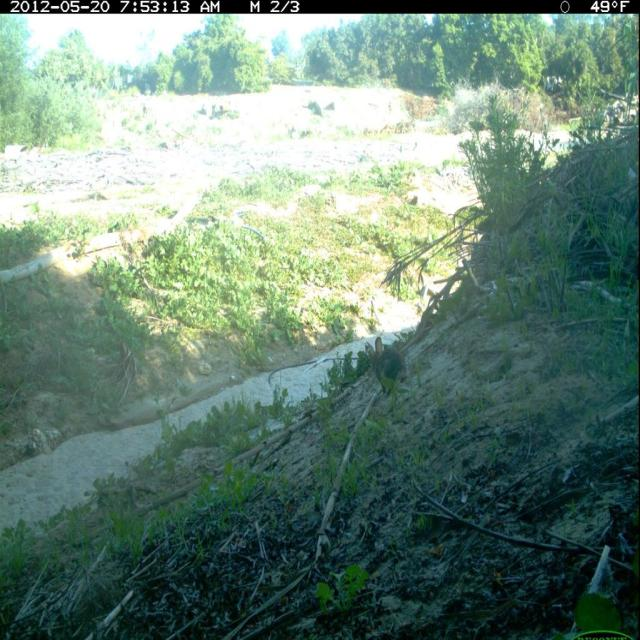rabbit: (361, 330, 410, 397)
